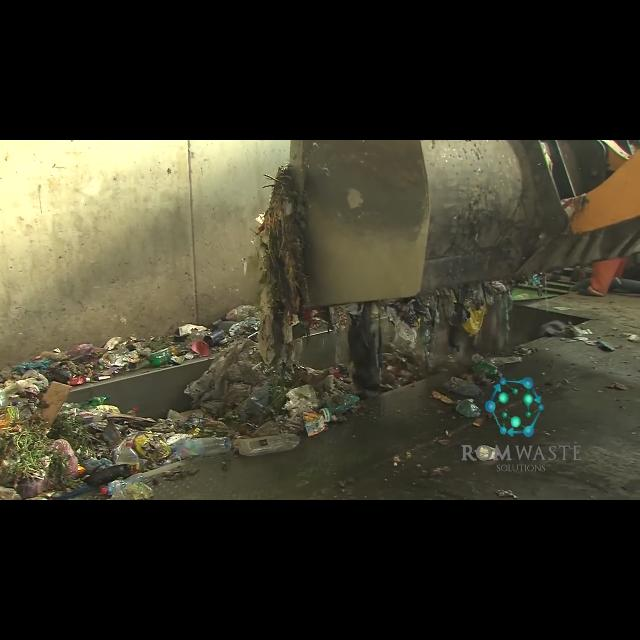trash: (237, 432, 303, 458), (169, 435, 229, 459), (100, 474, 146, 496), (444, 376, 486, 400), (116, 439, 140, 476), (328, 395, 360, 419), (472, 360, 502, 380), (454, 398, 482, 419), (148, 350, 176, 368), (66, 375, 92, 387), (124, 405, 140, 419)
